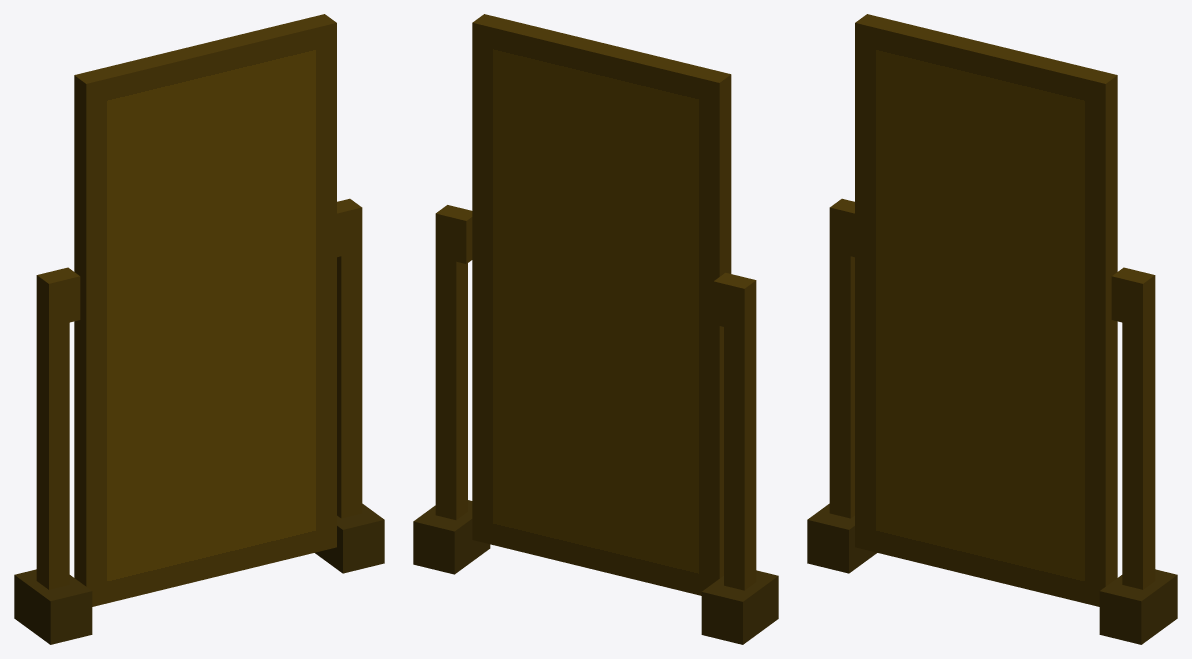
File: mirror.fbx
3 views of the same model, side by side, from view 1: azimuth 30°, elevation 25°; view 2: azimuth 150°, elevation 25°; view 3: azimuth 330°, elevation 25° (orthographic).
Parts seen in each view (by area): view 1: cuboid, cuboid_4, cuboid_3, cuboid_1, cuboid_2, cuboid_5; view 2: cuboid, cuboid_4, cuboid_3, cuboid_1, cuboid_2, cuboid_6, cuboid_5; view 3: cuboid, cuboid_3, cuboid_4, cuboid_2, cuboid_1, cuboid_6.
Part boxes in pixels (<box>): cuboid: <box>74,14,336,606</box>; cuboid_4: <box>36,270,69,589</box>; cuboid_3: <box>337,198,362,518</box>; cuboid_1: <box>14,569,92,644</box>; cuboid_2: <box>315,503,384,573</box>; cuboid_5: <box>58,267,80,322</box>; cuboid: <box>472,14,731,595</box>; cuboid_4: <box>724,275,756,590</box>; cuboid_3: <box>435,205,467,519</box>; cuboid_1: <box>701,570,778,644</box>; cuboid_2: <box>413,500,490,574</box>; cuboid_6: <box>456,210,472,263</box>; cuboid_5: <box>713,272,735,326</box>; cuboid: <box>855,14,1117,606</box>; cuboid_3: <box>1122,270,1155,589</box>; cuboid_4: <box>829,198,854,518</box>; cuboid_2: <box>1099,569,1177,644</box>; cuboid_1: <box>807,503,876,573</box>; cuboid_6: <box>1111,267,1133,322</box>.
Bounding box in the file's own units: 100 × 156 × 18.75.
Materials: 1 (1 with a texture image).
